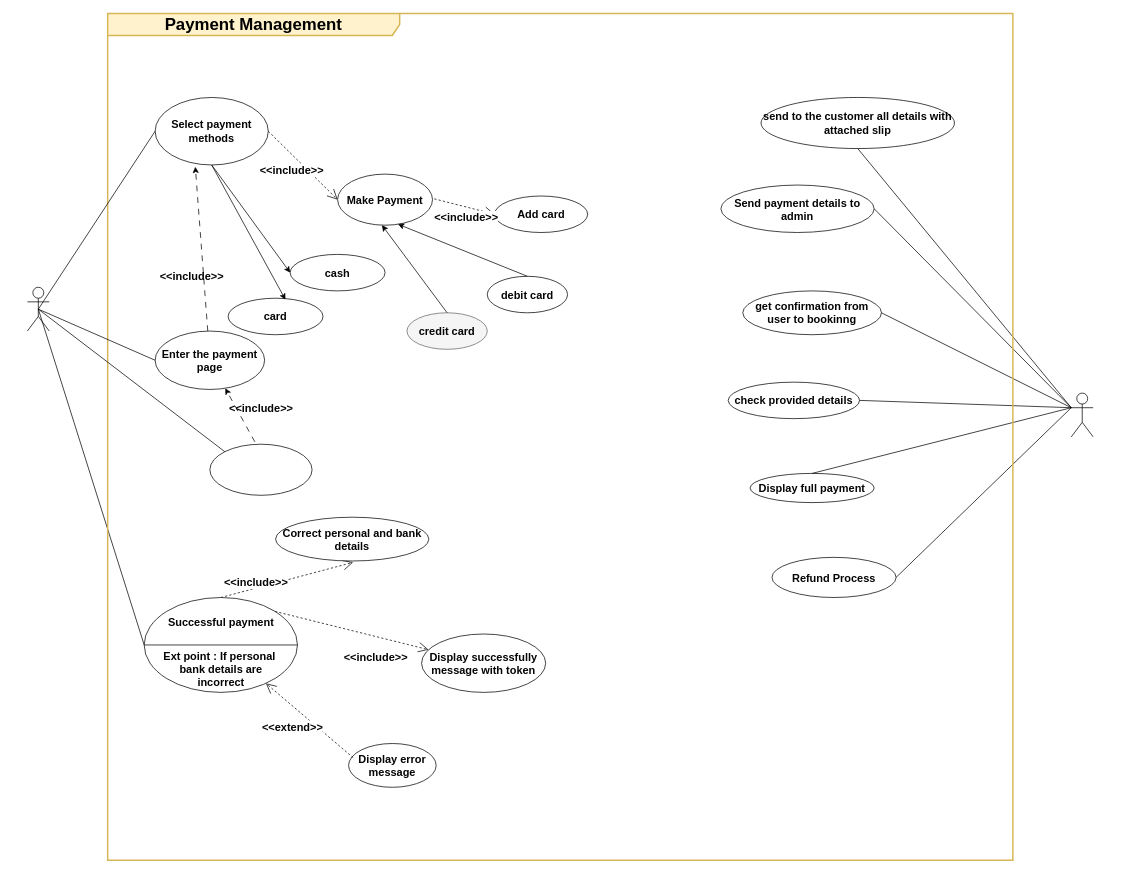
Image size: 1141x873. Some labels were removed from this diagram. The shapes that lost their labels are listed below. From the top down, each one's centre as x and y in pixels, then its label:
At point 38,309: "Customer".
At point 1082,414: "Payment Manager".
At point 260,469: "Select Package".
